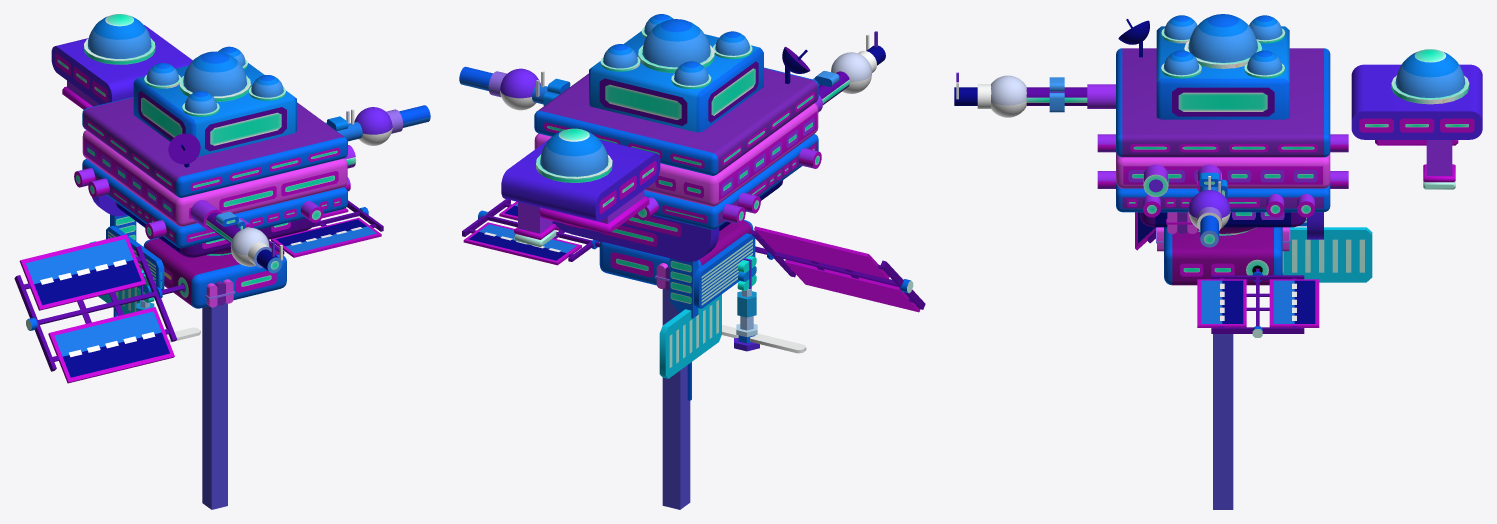
Rendered from Aircraft_038.fbx.
3 views of the same model, side by side, from view 1: azimuth 30°, elevation 25°; view 2: azimuth 150°, elevation 25°; view 3: azimuth 270°, elevation 25° (orthographic). The views are drawn at different scales.
Visible parts, largest first — view 1: pCube488, pCylinder360, polySurface1464, polySurface1540, polySurface1730, polySurface1474, polySurface1731, polySurface1373, pCube1430, polySurface1405, polySurface1417, polySurface1531 (+1 smaller); view 2: polySurface1540, pCylinder360, polySurface1730, polySurface1464, pCube488, polySurface1474, polySurface1731, pCube1430, polySurface1373, polySurface1417, polySurface1405, pCylinder355 (+1 smaller); view 3: polySurface1464, pCylinder360, polySurface1730, polySurface1540, pCube1430, polySurface1373, polySurface1731, polySurface1474, polySurface1405, polySurface1417, polySurface1531, polySurface1356.
Part boxes in pixels (x1,y1,x2,y2): pCube488: (14, 234, 184, 383); pCylinder360: (133, 46, 296, 156); polySurface1464: (82, 96, 347, 197); polySurface1540: (90, 195, 227, 509); polySurface1730: (51, 14, 192, 109); polySurface1474: (82, 130, 347, 226); polySurface1731: (74, 159, 350, 248); polySurface1373: (143, 237, 286, 308); pCube1430: (268, 200, 383, 257); polySurface1405: (190, 200, 282, 273); polySurface1417: (325, 105, 430, 145); polySurface1531: (115, 202, 314, 257); polySurface1540: (552, 215, 756, 509); pCylinder360: (589, 14, 763, 132); polySurface1730: (501, 128, 660, 247); polySurface1464: (534, 67, 818, 175); pCube488: (751, 226, 925, 312); polySurface1474: (534, 103, 818, 206); polySurface1731: (635, 134, 821, 229); pCube1430: (462, 199, 599, 265); polySurface1373: (599, 220, 753, 290); polySurface1417: (459, 66, 570, 110); polySurface1405: (813, 31, 885, 112); pCylinder355: (722, 287, 806, 353); polySurface1464: (1116, 48, 1330, 157); pCylinder360: (1156, 14, 1289, 119); polySurface1730: (1351, 49, 1482, 189); polySurface1540: (1213, 212, 1372, 509); pCube1430: (1197, 268, 1319, 337); polySurface1373: (1156, 227, 1290, 285); polySurface1731: (1097, 134, 1348, 217); polySurface1474: (1116, 152, 1330, 188); polySurface1405: (954, 72, 1115, 117); polySurface1417: (1188, 164, 1230, 247); polySurface1531: (1139, 212, 1305, 235); polySurface1356: (1143, 164, 1168, 196).
Size of the model in its own units: 151 by 159 by 156.
